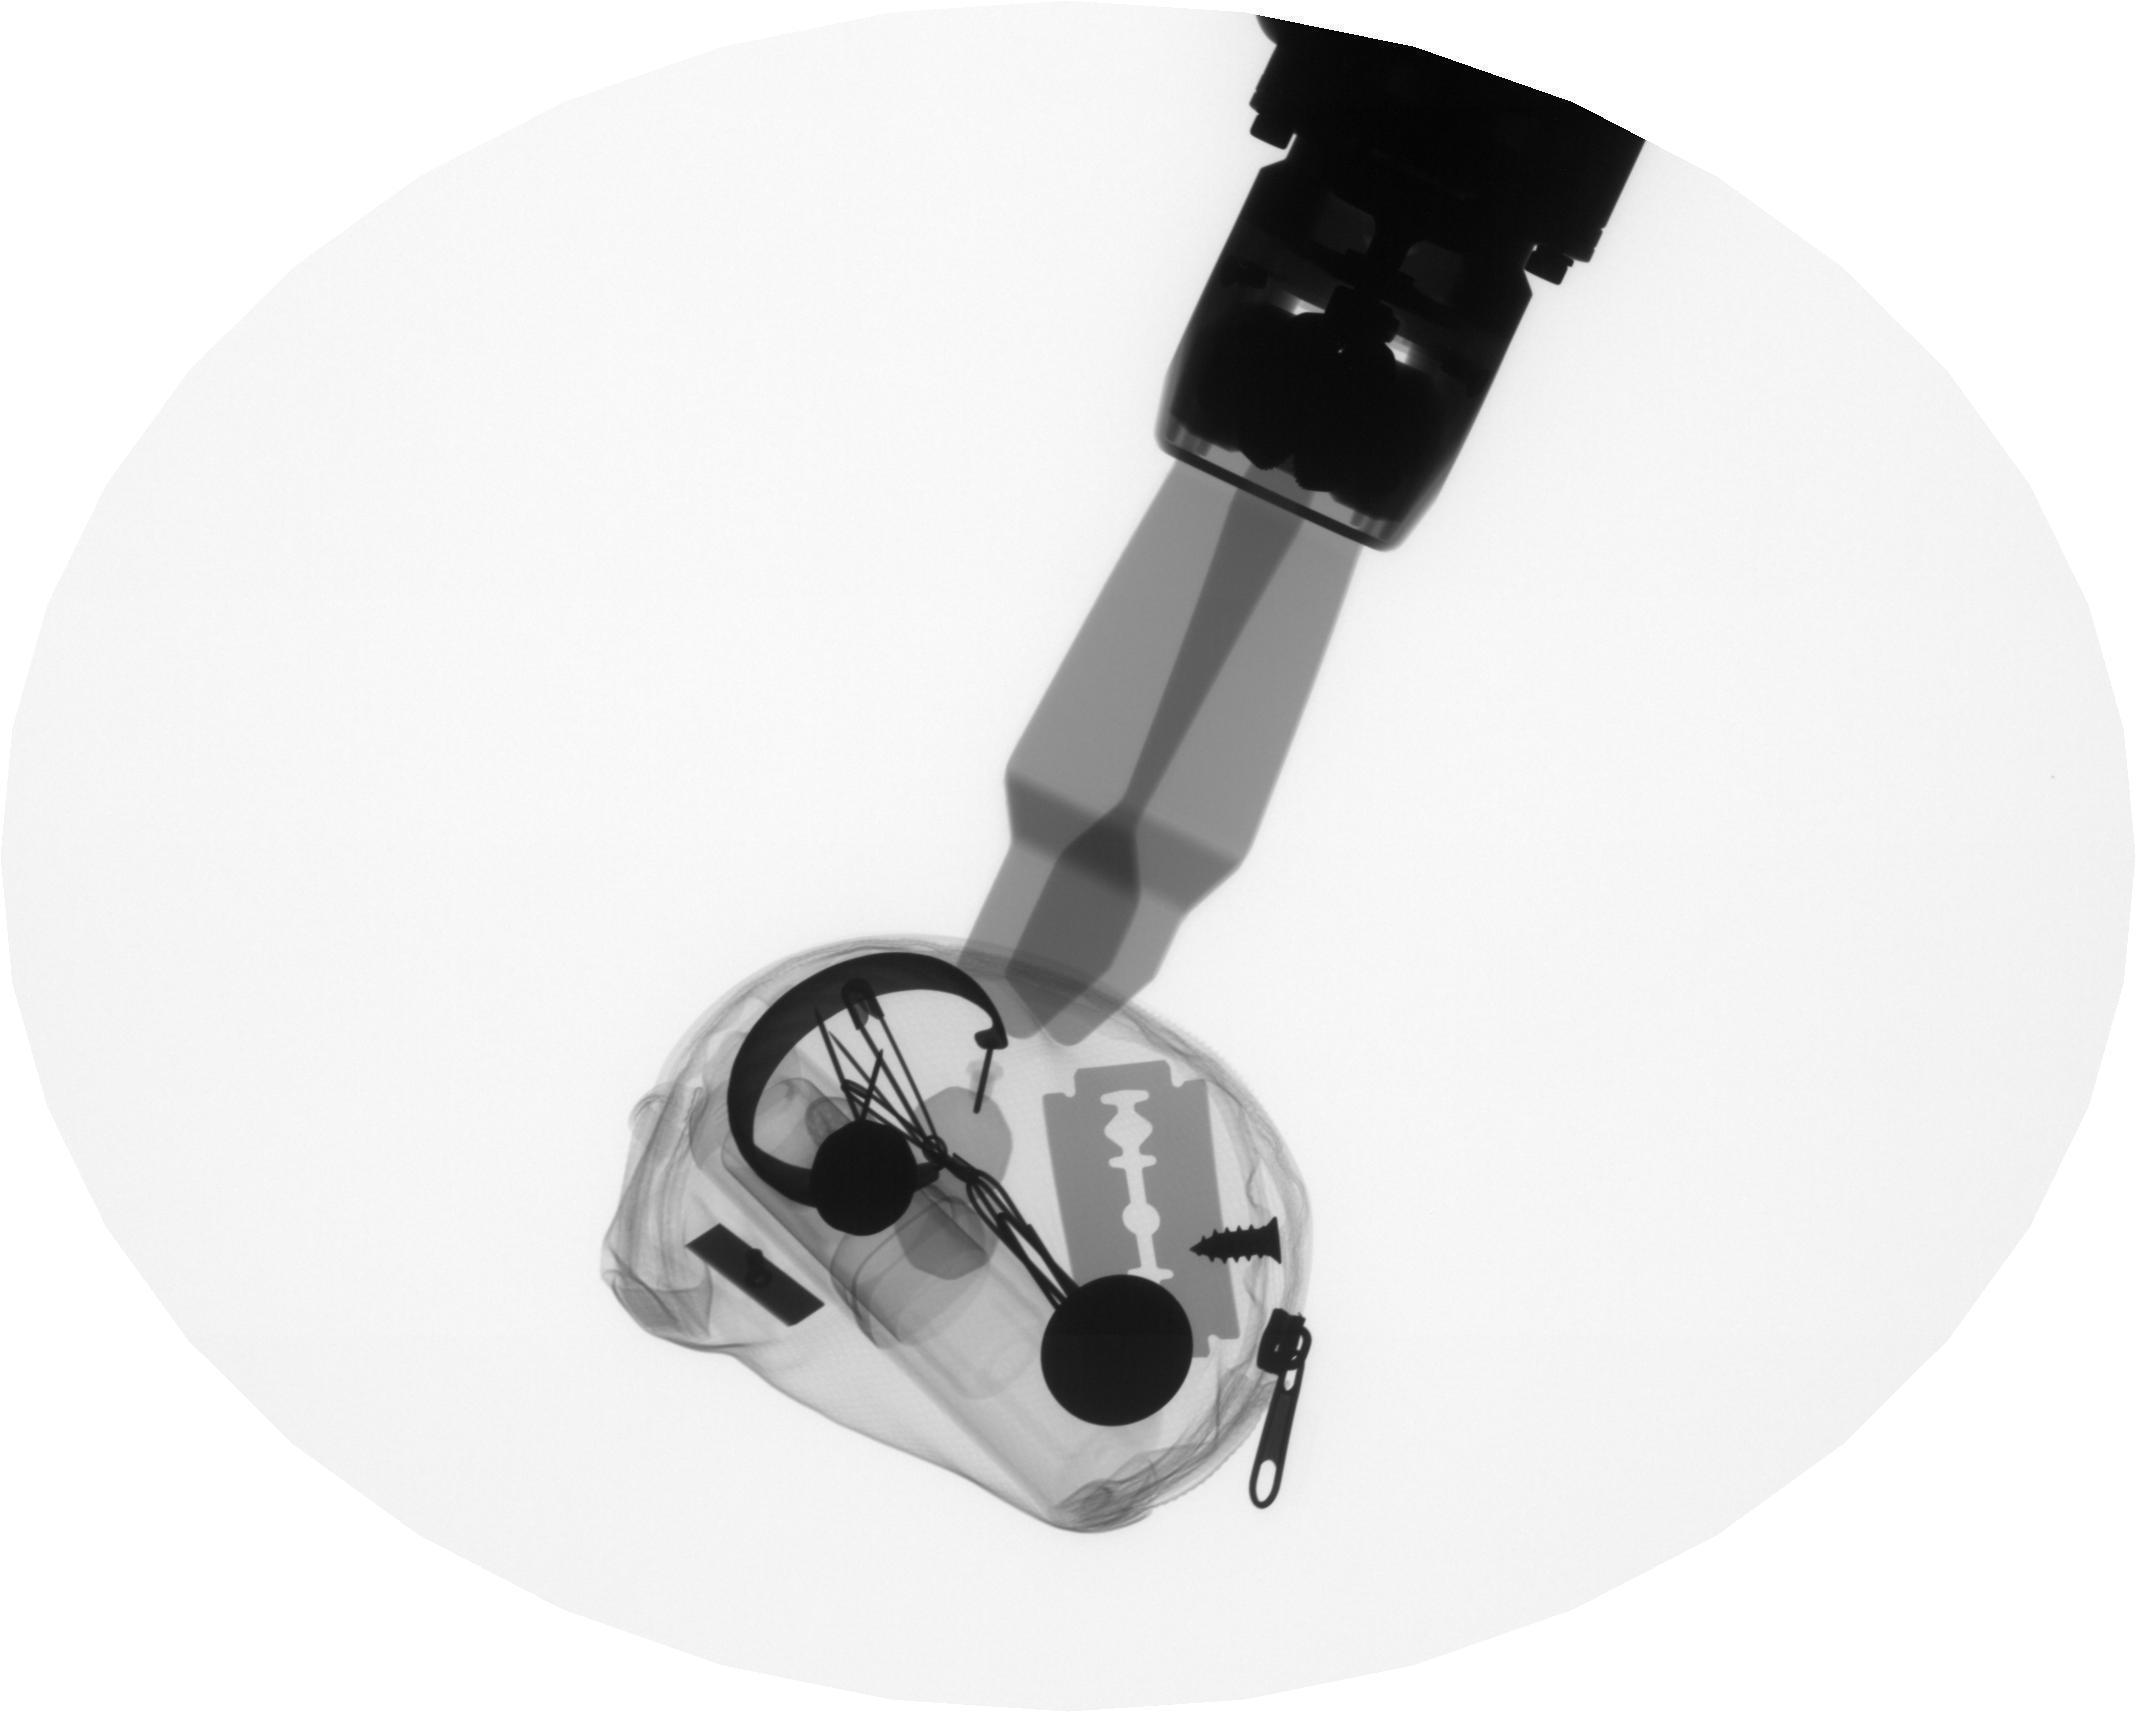RazorBlade: (1036, 1053, 1247, 1377)
